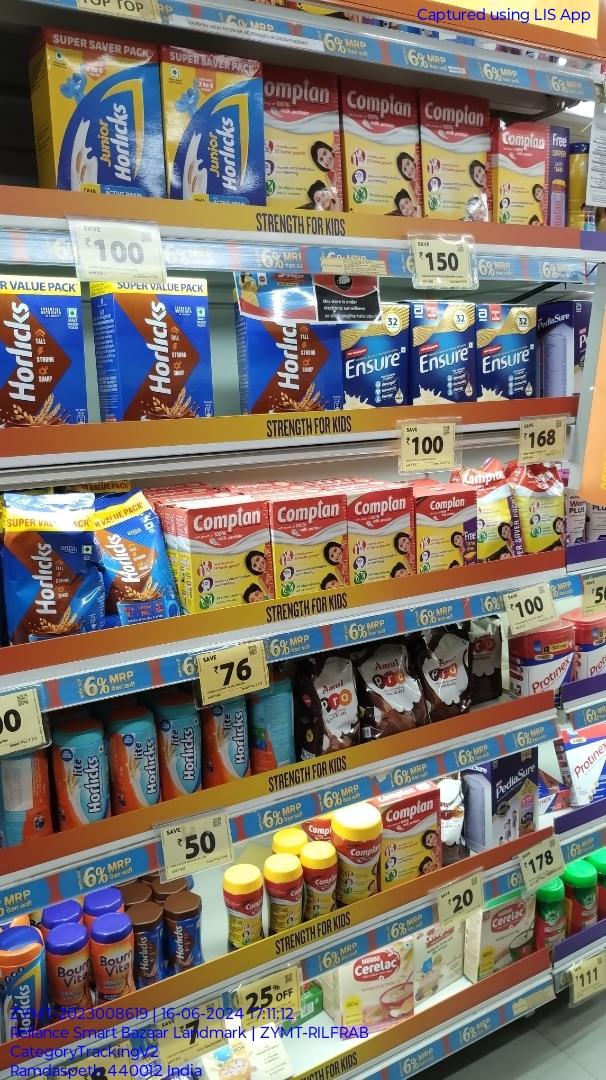BOURN_VITA_200_G_JAR: (49, 936, 90, 1016), (92, 923, 132, 1003)
COMPLAN_CHOCOLATE_200_GMS_JAR: (226, 880, 265, 947), (273, 864, 305, 931), (308, 854, 339, 921)
COMPLAN_CHOCOLATE_500_GMS_JAR: (344, 821, 382, 901)
COMPLAN_KESAR_BADAM_500_GMS_PACK: (347, 491, 413, 586)
COMPLAN_RC_POUCH_700_GMS_12: (475, 462, 520, 562), (521, 459, 564, 554)
ENSURE_VANILLA_400_G_PACK: (342, 306, 410, 412), (414, 304, 475, 405), (478, 305, 540, 399)
HORLICKS_LITE_REGULAR_MALT_500_GM_JAR: (58, 723, 107, 829), (114, 715, 157, 816), (161, 697, 202, 795), (212, 694, 249, 787)
HORLICK_CHOCOLATE_1_KG_PACK: (116, 279, 213, 418), (1, 275, 87, 423)
HORLICK_CHOCOLATE_200_G_JAR: (167, 905, 201, 973), (133, 914, 161, 986)
HORLICK_CHOCOLATE_750_G_POUCH: (6, 507, 99, 635), (101, 496, 170, 626)
HORLICK_CLASSIC_MALT_200_G_JAR: (0, 942, 45, 1033)
PROTINEX_CHOCOLATE_400_G_JAR: (526, 627, 577, 698)
